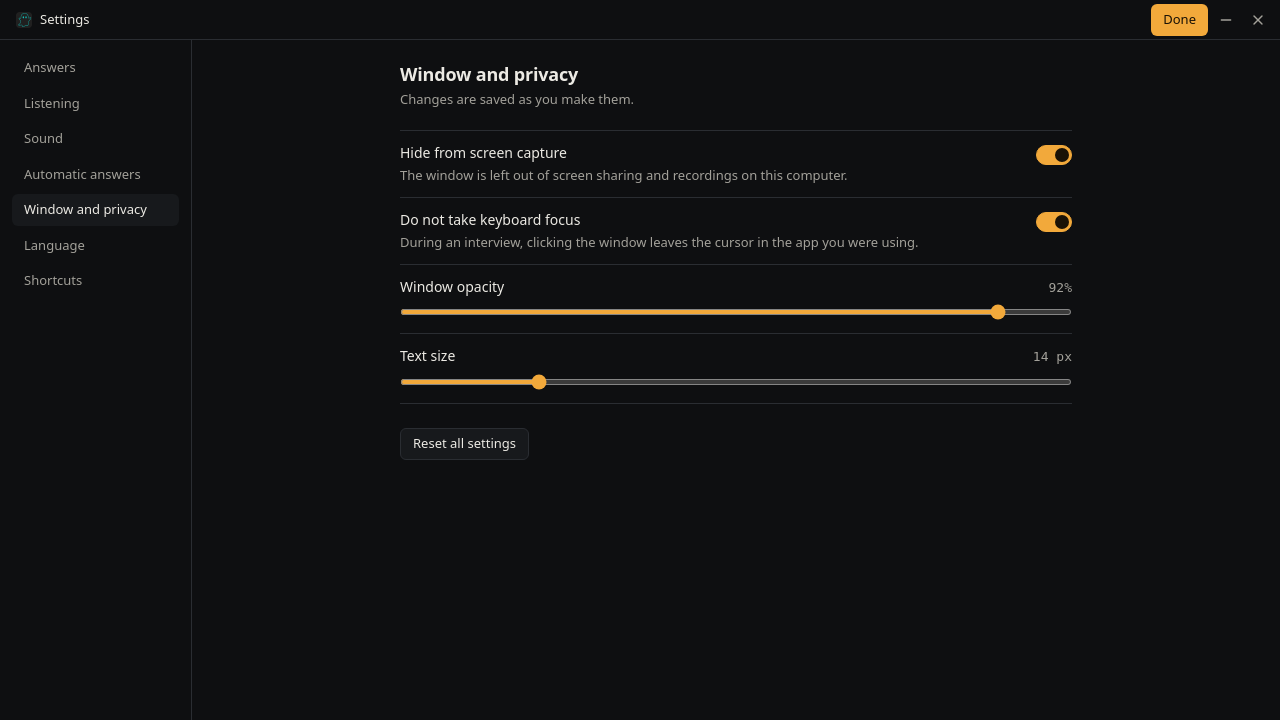
Scenario: Settings › saves a slider once when it is released, not on every step
The width and height of the screenshot is (1280, 720).
Set the slider labelled "Window opacity" to "0.5" at (654, 312), box x1=400 y1=309 x2=1072 y2=315
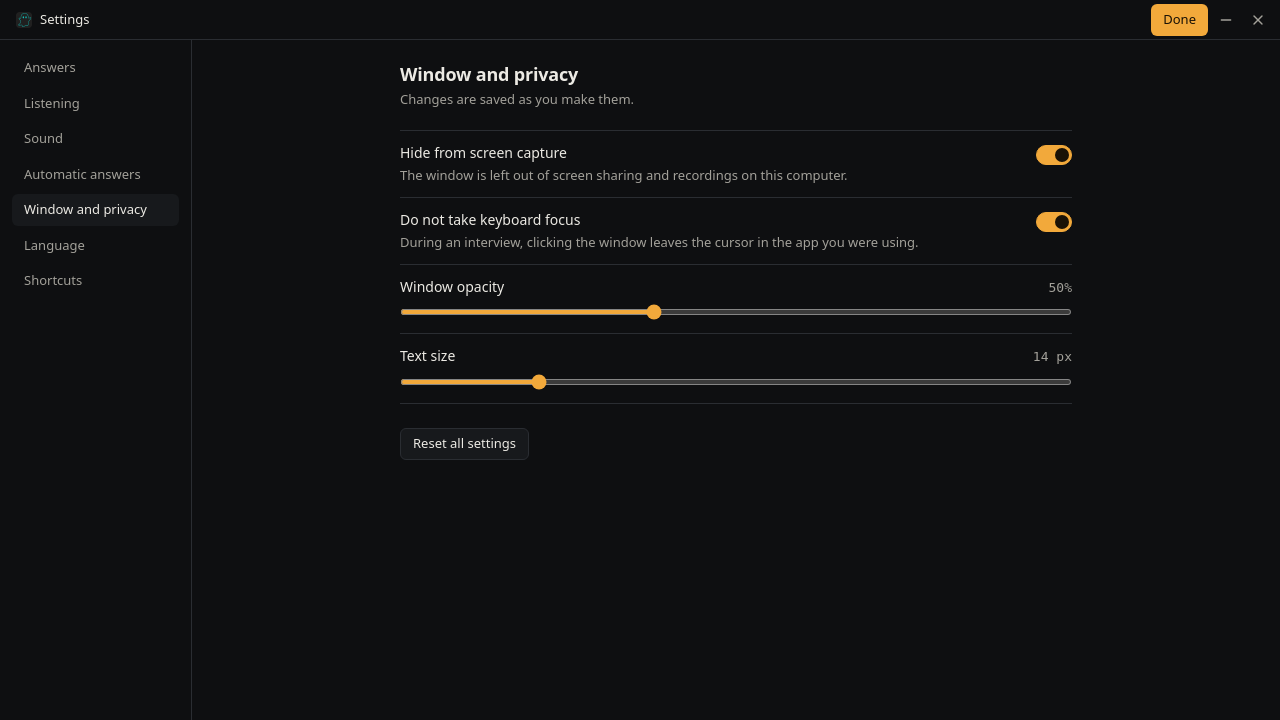
Set the slider labelled "Window opacity" to "0.6" at (736, 312), box x1=400 y1=309 x2=1072 y2=315
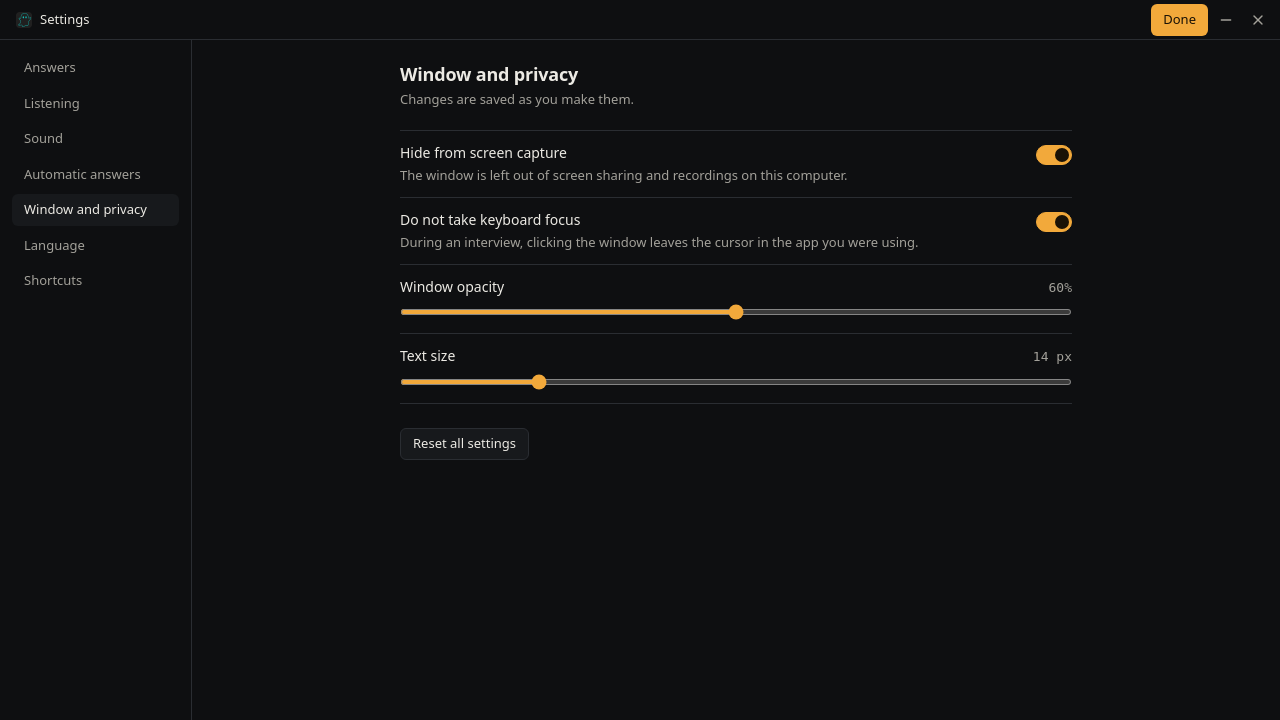
Set the slider labelled "Window opacity" to "0.7" at (818, 312), box x1=400 y1=309 x2=1072 y2=315
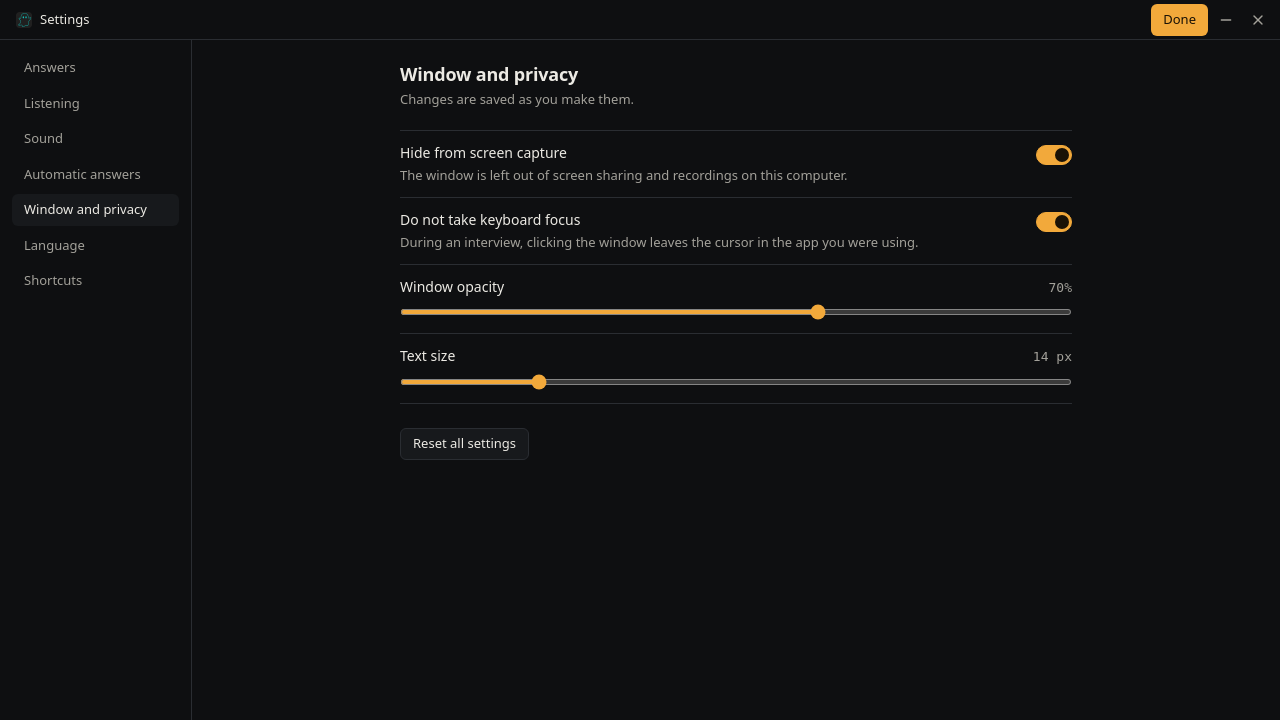
Expected: the text "70%" is shown, x1=1048 y1=278 x2=1072 y2=297
